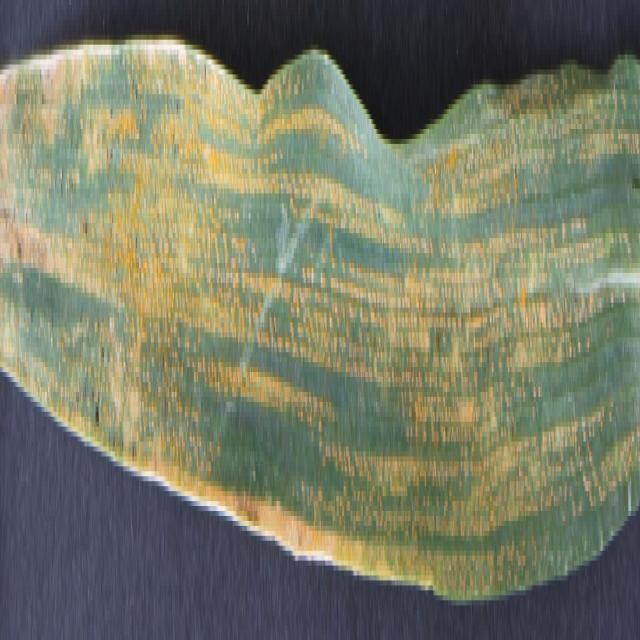leaf rust: (0, 4, 640, 585)
